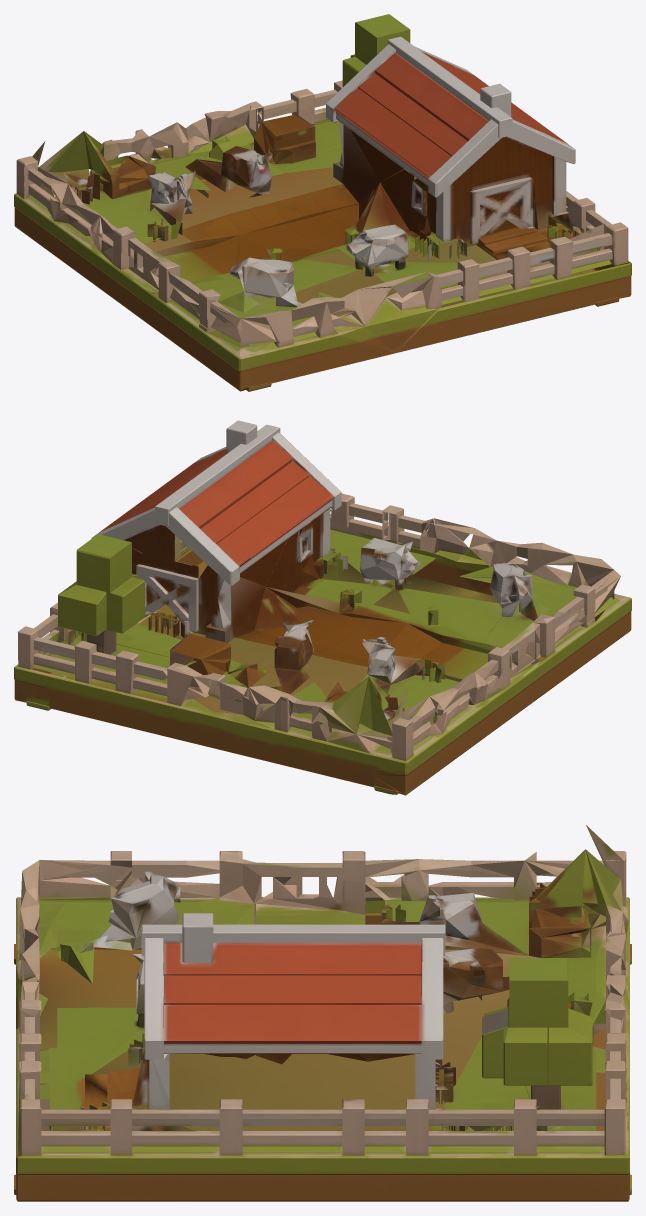
The model's file is pasture.fbx.
3 views of the same model, one above another, from view 1: azimuth 30°, elevation 25°; view 2: azimuth 150°, elevation 25°; view 3: azimuth 270°, elevation 25° (orthographic). The views are drawn at different scales.
Parts seen in each view (by area): view 1: texture_pbr_v128; view 2: texture_pbr_v128; view 3: texture_pbr_v128.
Boxes of the visible parts, <box> form: texture_pbr_v128: <box>14,14,631,391</box>; texture_pbr_v128: <box>14,420,631,795</box>; texture_pbr_v128: <box>14,825,631,1201</box>.
Bounding box in the file's own units: 190 × 81.04 × 190.
Materials: 1 (1 with a texture image).
